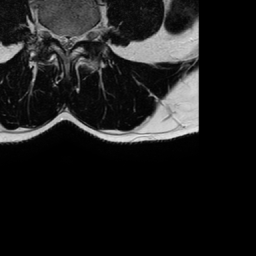CCS_stenosis: (64, 28, 70, 61)
LFS_normal: (77, 26, 84, 51)
LLS_normal: (70, 27, 77, 54)
RFS_stenosis: (51, 25, 58, 47)
RLS_normal: (58, 27, 64, 53)
